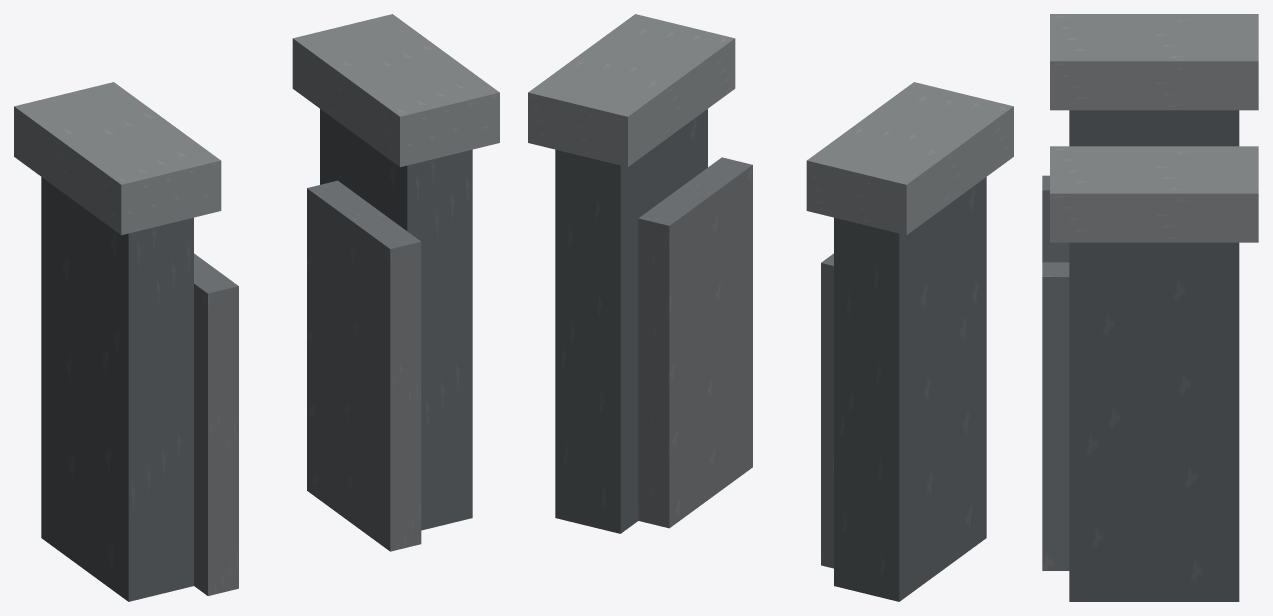
The model's file is Gate_Open.obj.
3 renders of one model, left to right at view 1: azimuth 30°, elevation 25°; view 2: azimuth 150°, elevation 25°; view 3: azimuth 270°, elevation 25°, orthographic. The views are drawn at different scales.
Parts seen in each view (by area): view 1: Gate_Open; view 2: Gate_Open; view 3: Gate_Open.
Boxes of the visible parts, x1=… form: Gate_Open: x1=14, y1=14, x2=499, y2=601; Gate_Open: x1=528, y1=14, x2=1013, y2=601; Gate_Open: x1=1042, y1=14, x2=1258, y2=601.
Size of the model in its own units: 1.1 by 1.19 by 0.56.
